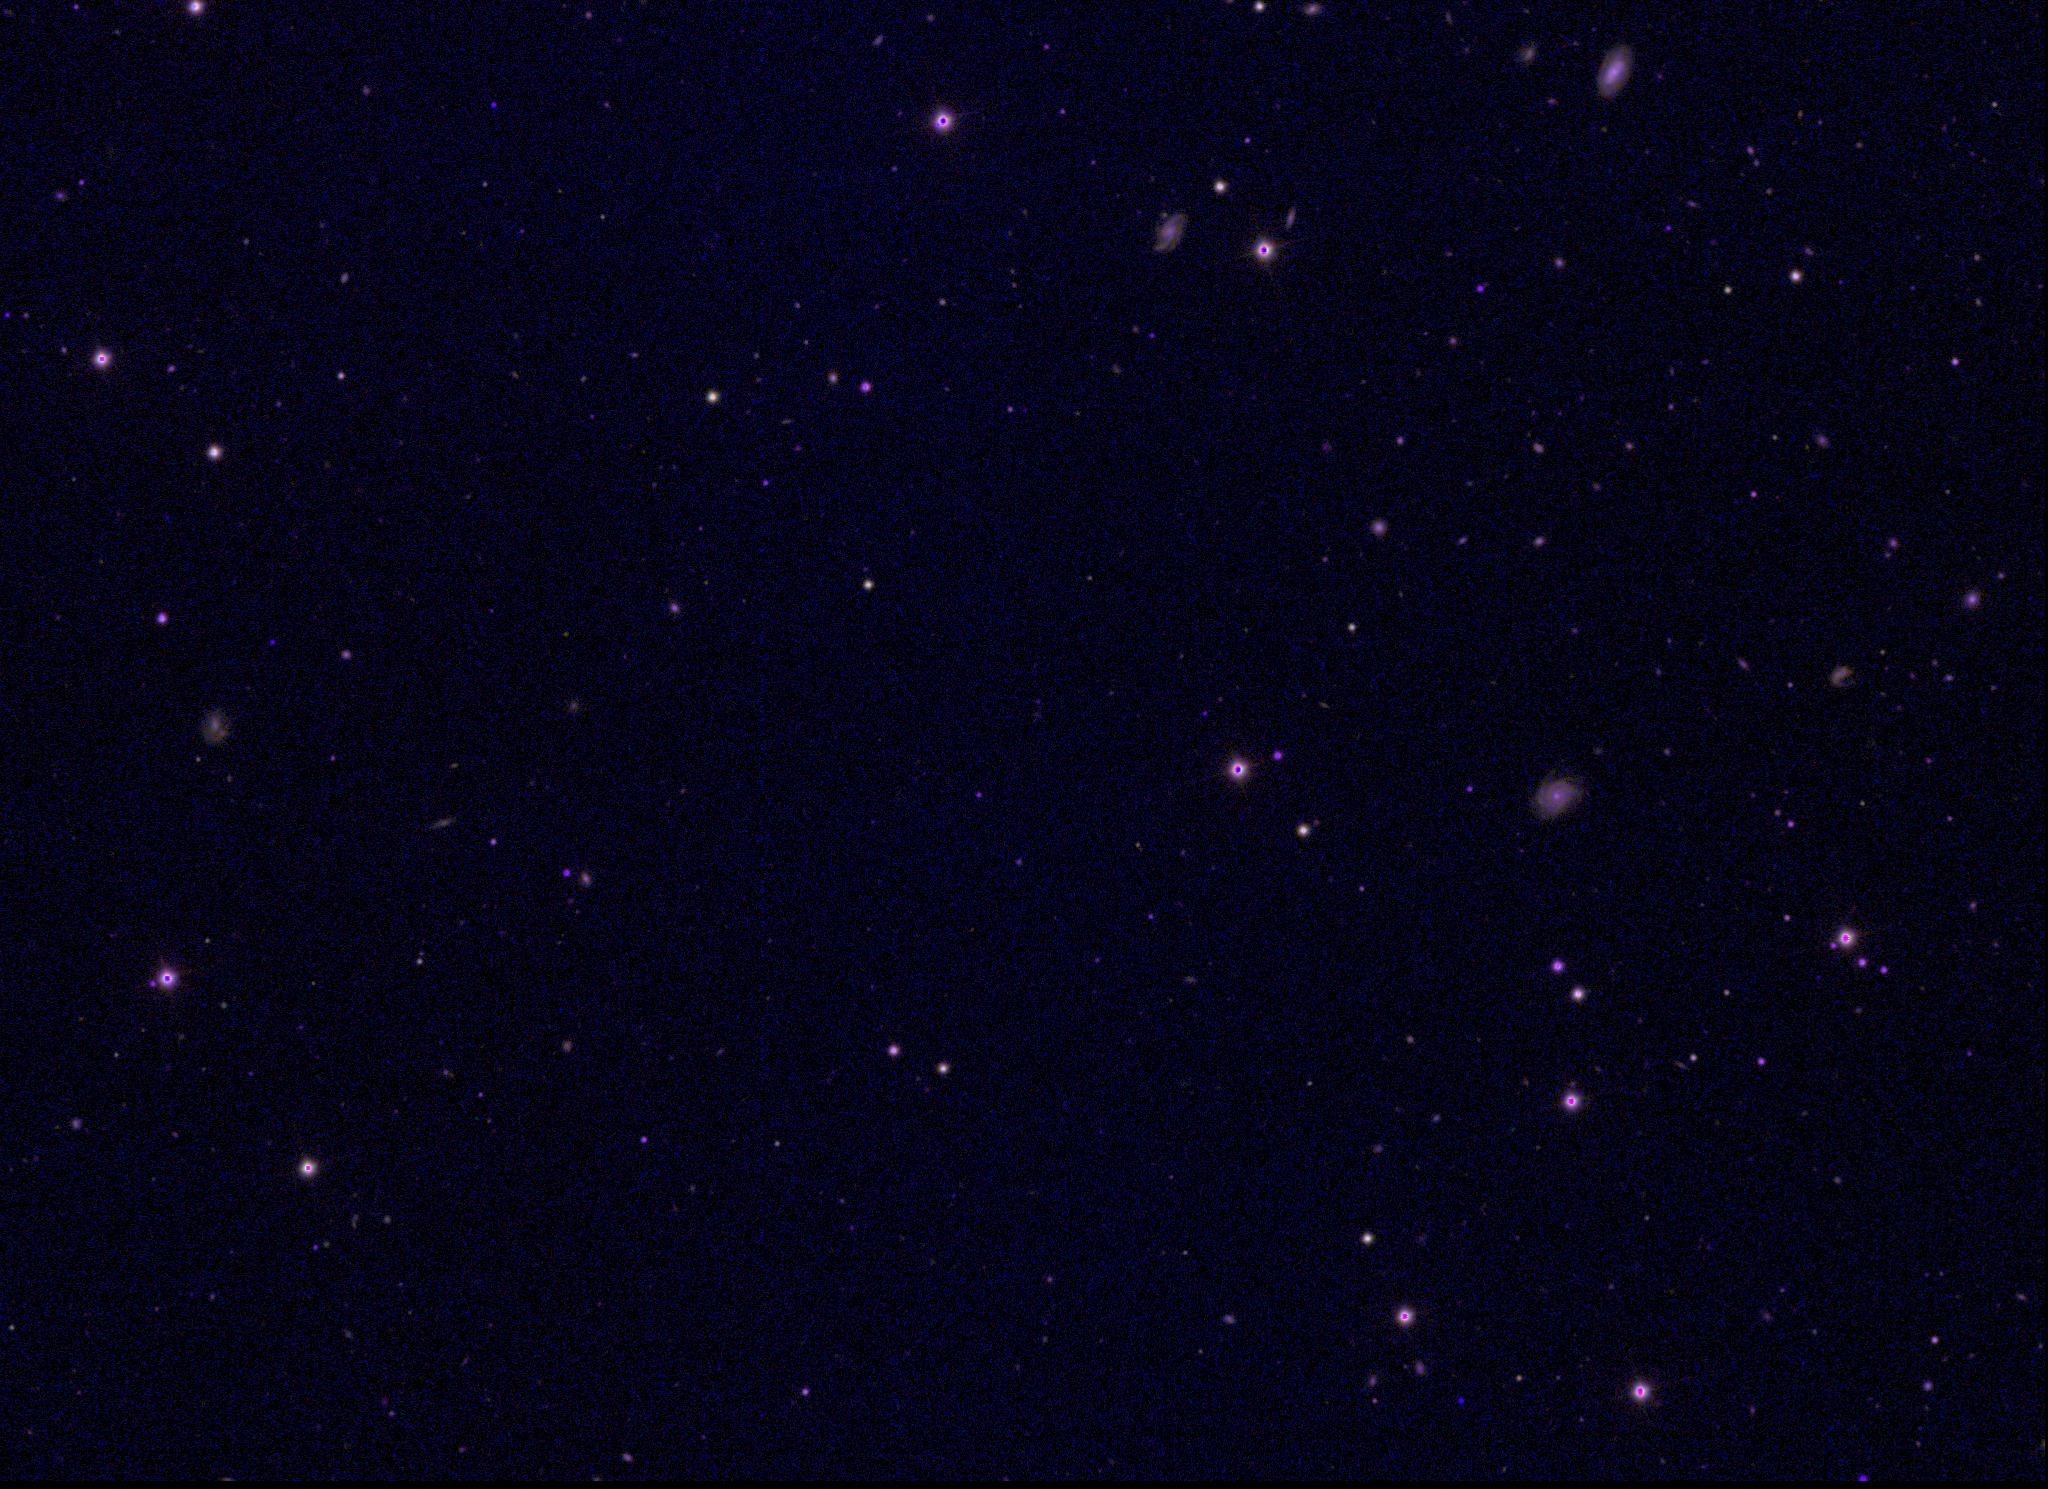L: (1453, 1394, 1468, 1408)
